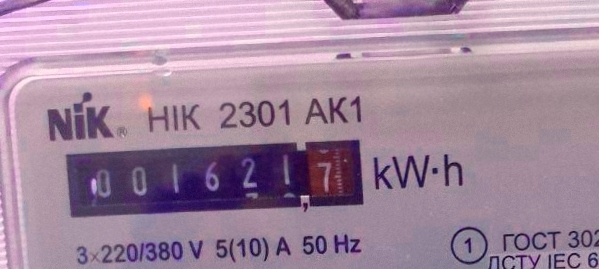0: (127, 162, 150, 199), (92, 164, 113, 199)
1: (167, 159, 182, 196), (278, 150, 293, 187)
2: (238, 154, 260, 191)
6: (201, 159, 221, 193)
7: (313, 158, 334, 194)
screen: (60, 136, 369, 222)
